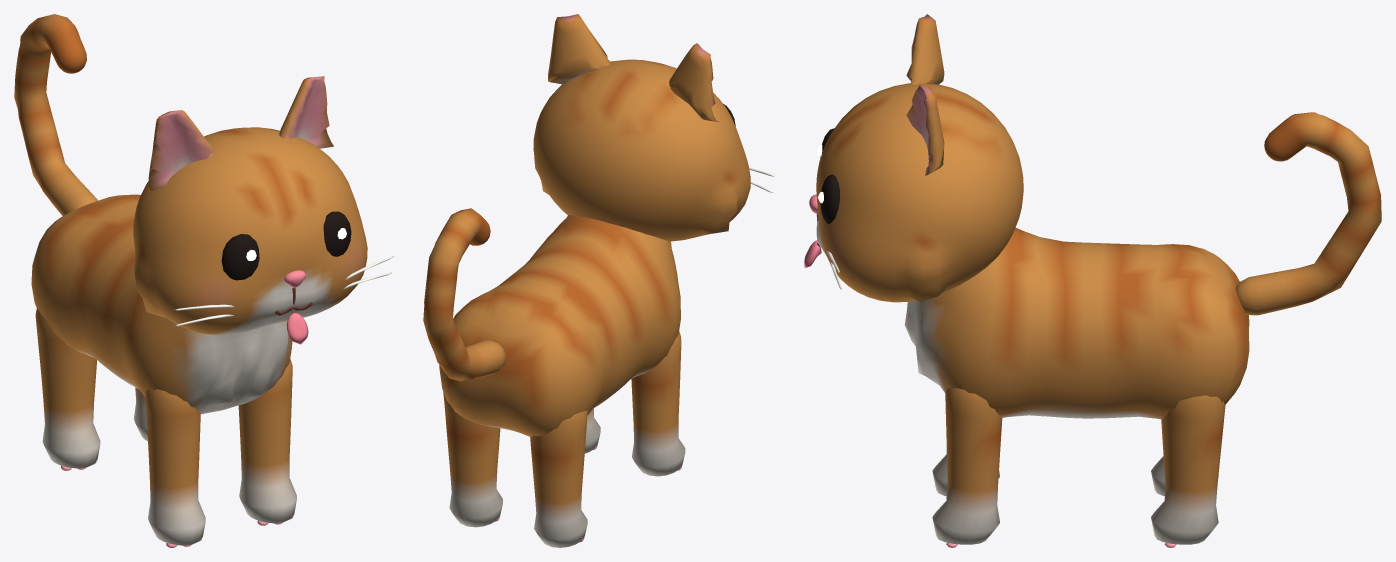
File: pet_cat.glb
3 renders of one model, left to right at view 1: azimuth 30°, elevation 25°; view 2: azimuth 150°, elevation 25°; view 3: azimuth 270°, elevation 25°, orthographic. The views are drawn at different scales.
Visible parts, largest first — view 1: skull, torso, tail_mesh, leg_1_mesh, leg_0_mesh, leg_3_mesh, ear_0_mesh, ear_1_mesh, eye_0_ball, eye_1_ball, whiskers, tongue (+1 smaller); view 2: torso, skull, tail_mesh, leg_3_mesh, leg_1_mesh, leg_2_mesh, ear_1_mesh, ear_0_mesh, leg_0_mesh; view 3: torso, skull, tail_mesh, leg_2_mesh, leg_0_mesh, ear_0_mesh, ear_1_mesh, eye_1_ball.
Part boxes in pixels (left/top/right/bottom): skull: left=133, top=127, right=367, bottom=335; torso: left=31, top=194, right=292, bottom=414; tail_mesh: left=14, top=14, right=97, bottom=215; leg_1_mesh: left=145, top=388, right=205, bottom=545; leg_0_mesh: left=238, top=359, right=296, bottom=523; leg_3_mesh: left=35, top=308, right=100, bottom=468; ear_0_mesh: left=148, top=110, right=217, bottom=190; ear_1_mesh: left=279, top=76, right=333, bottom=148; eye_0_ball: left=221, top=234, right=259, bottom=280; eye_1_ball: left=323, top=211, right=351, bottom=256; whiskers: left=174, top=256, right=393, bottom=326; tongue: left=286, top=312, right=308, bottom=344; torso: left=439, top=215, right=680, bottom=436; skull: left=533, top=59, right=750, bottom=241; tail_mesh: left=423, top=208, right=505, bottom=381; leg_3_mesh: left=530, top=410, right=587, bottom=547; leg_1_mesh: left=631, top=331, right=685, bottom=476; leg_2_mesh: left=443, top=392, right=502, bottom=527; ear_1_mesh: left=548, top=14, right=611, bottom=84; ear_0_mesh: left=669, top=43, right=718, bottom=121; leg_0_mesh: left=584, top=408, right=600, bottom=453; torso: left=904, top=227, right=1249, bottom=419; skull: left=816, top=83, right=1023, bottom=302; tail_mesh: left=1235, top=112, right=1381, bottom=315; leg_2_mesh: left=1151, top=395, right=1225, bottom=544; leg_0_mesh: left=932, top=387, right=1002, bottom=544; ear_0_mesh: left=906, top=14, right=944, bottom=84; ear_1_mesh: left=906, top=83, right=944, bottom=175; eye_1_ball: left=820, top=174, right=839, bottom=223.
Bounding box in the file's own units: 0.4838 × 0.9428 × 1.06.
